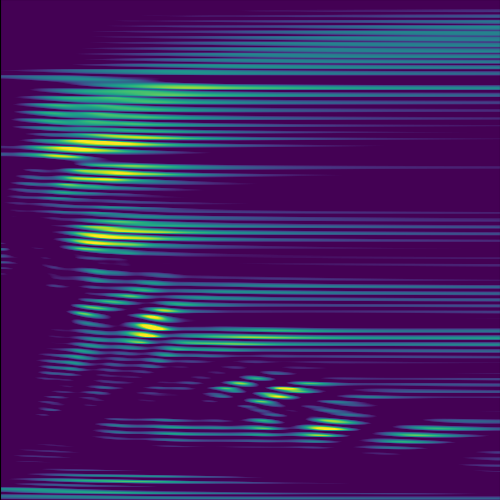semblance: (41, 123, 188, 162), (64, 219, 179, 256), (63, 160, 163, 191), (123, 297, 179, 349), (307, 415, 355, 444), (264, 383, 307, 403), (219, 376, 256, 394)
